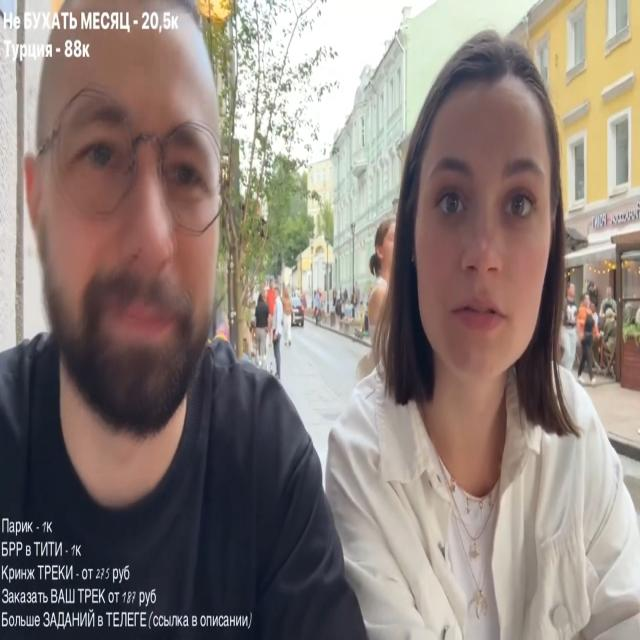Person: (289, 35, 640, 637), (0, 28, 344, 640), (252, 286, 278, 374), (577, 298, 599, 382)
